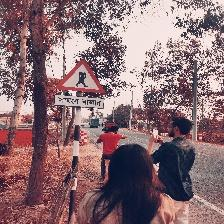Market-in-front: (51, 58, 108, 113)
